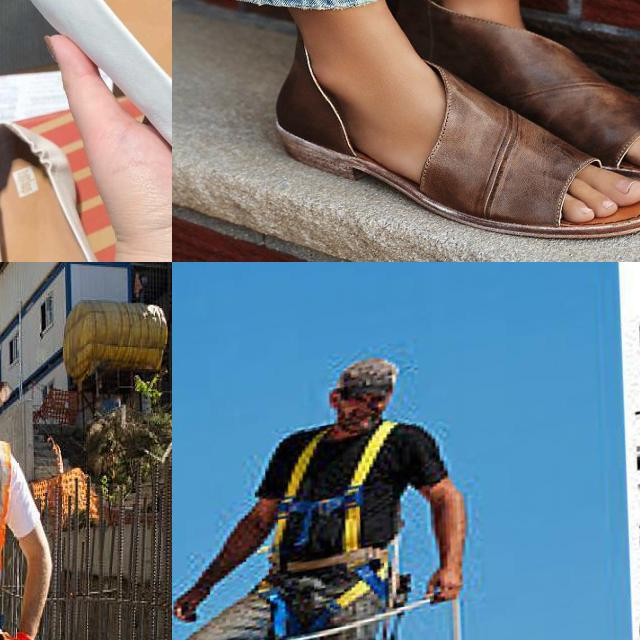Harness: (274, 421, 400, 570)
Sandals: (275, 12, 640, 240), (0, 0, 172, 262)
